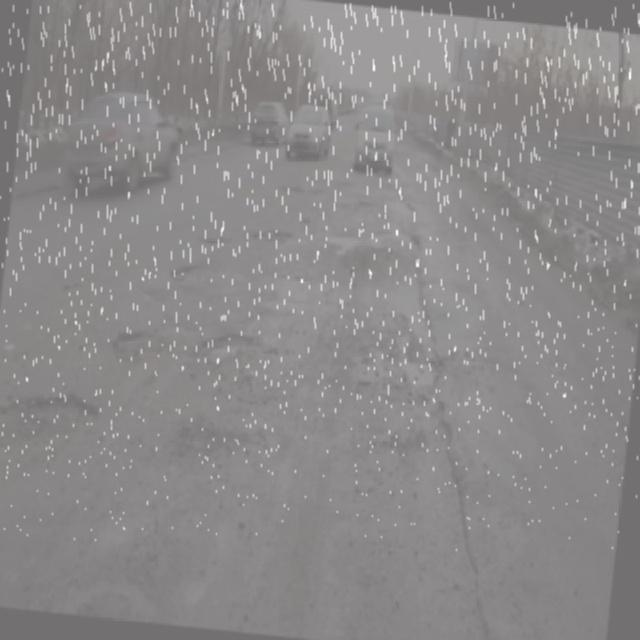Pothole: (381, 313, 517, 634), (0, 384, 106, 453), (168, 421, 304, 474), (118, 264, 214, 294), (316, 228, 374, 268), (382, 198, 432, 229), (200, 337, 249, 368), (96, 327, 150, 352), (388, 226, 422, 260), (242, 232, 290, 252)
